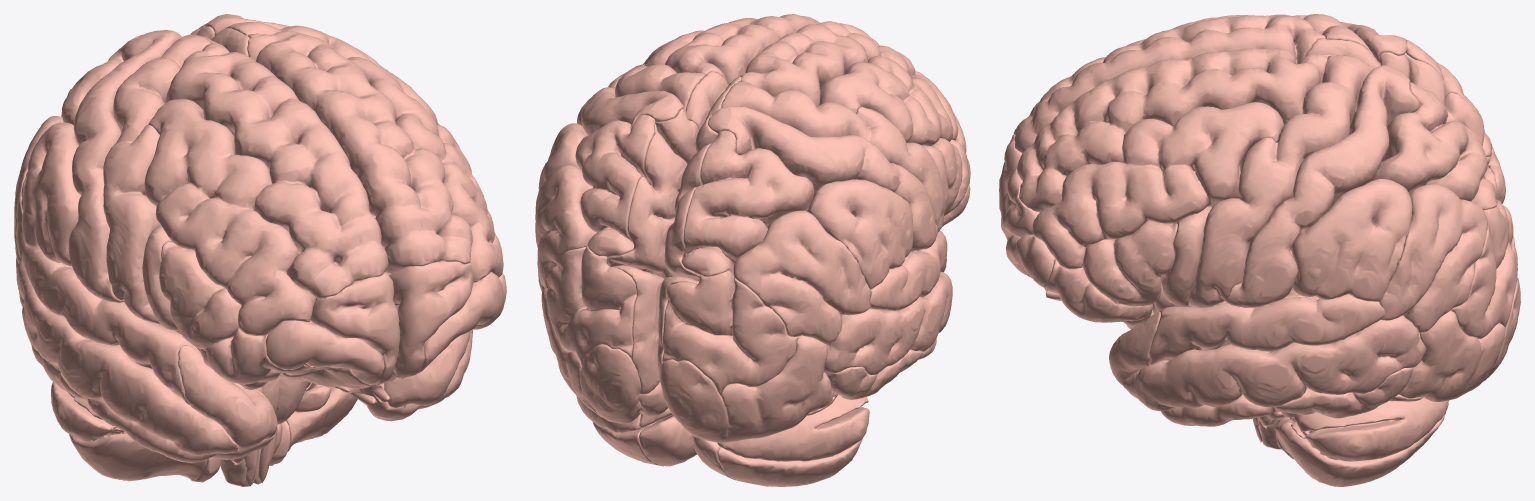
Rendered from allen-f-full-meshopt.glb.
The picture shows the model from 3 angles, left to right: view 1: azimuth 30°, elevation 25°; view 2: azimuth 150°, elevation 25°; view 3: azimuth 270°, elevation 25°; orthographic projection. The views are drawn at different scales.
Parts seen in each view (by area): view 1: Allen_superior_frontal_gyrus_L, Allen_middle_frontal_gyrus_L, Allen_superior_frontal_gyrus_R, Allen_middle_temporal_gyrus_L, Allen_primary_motor_cortex_L, Allen_postcentral_gyrus_L, Allen_superior_temporal_gyrus_L, Allen_middle_frontal_gyrus_R, Allen_supramarginal_gyrus_L, Allen_rostral_gyrus_R, Allen_lateral_hemisphere_of_cerebellum_L, Allen_inferior_frontal_gyrus_triangular_part_L (+19 smaller); view 2: Allen_angular_gyrus_L, Allen_supraparietal_lobule_L, Allen_superior_occipital_gyrus_L, Allen_postcentral_gyrus_L, Allen_lateral_hemisphere_of_cerebellum_L, Allen_superior_occipital_gyrus_R, Allen_supraparietal_lobule_R, Allen_primary_motor_cortex_L, Allen_supramarginal_gyrus_L, Allen_middle_frontal_gyrus_L, Allen_superior_frontal_gyrus_L, Allen_inferior_occipital_gyrus_L (+24 smaller); view 3: Allen_middle_frontal_gyrus_R, Allen_superior_frontal_gyrus_R, Allen_middle_temporal_gyrus_R, Allen_primary_motor_cortex_R, Allen_postcentral_gyrus_R, Allen_supramarginal_gyrus_R, Allen_angular_gyrus_R, Allen_superior_temporal_gyrus_R, Allen_lateral_hemisphere_of_cerebellum_R, Allen_superior_frontal_gyrus_L, Allen_supraparietal_lobule_R, Allen_inferior_frontal_gyrus_triangular_part_R (+16 smaller).
Boxes of the visible parts, box(x1,y1,x2,y2) form: Allen_superior_frontal_gyrus_L: box(165, 43, 388, 299); Allen_middle_frontal_gyrus_L: box(144, 98, 315, 335); Allen_superior_frontal_gyrus_R: box(247, 31, 472, 273); Allen_middle_temporal_gyrus_L: box(16, 260, 238, 455); Allen_primary_motor_cortex_L: box(103, 34, 210, 325); Allen_postcentral_gyrus_L: box(68, 30, 181, 302); Allen_superior_temporal_gyrus_L: box(21, 245, 196, 404); Allen_middle_frontal_gyrus_R: box(347, 56, 503, 282); Allen_supramarginal_gyrus_L: box(21, 122, 81, 266); Allen_rostral_gyrus_R: box(389, 260, 473, 378); Allen_lateral_hemisphere_of_cerebellum_L: box(51, 382, 207, 481); Allen_inferior_frontal_gyrus_triangular_part_L: box(159, 241, 241, 350); Allen_angular_gyrus_L: box(733, 210, 870, 344); Allen_supraparietal_lobule_L: box(681, 130, 814, 276); Allen_superior_occipital_gyrus_L: box(662, 270, 798, 395); Allen_postcentral_gyrus_L: box(707, 106, 938, 251); Allen_lateral_hemisphere_of_cerebellum_L: box(717, 394, 869, 486); Allen_superior_occipital_gyrus_R: box(546, 245, 636, 365); Allen_supraparietal_lobule_R: box(575, 114, 655, 256); Allen_primary_motor_cortex_L: box(721, 81, 944, 231); Allen_supramarginal_gyrus_L: box(807, 179, 912, 289); Allen_middle_frontal_gyrus_L: box(819, 55, 966, 152); Allen_superior_frontal_gyrus_L: box(740, 21, 923, 106); Allen_inferior_occipital_gyrus_L: box(721, 335, 836, 442); Allen_middle_frontal_gyrus_R: box(1032, 102, 1284, 269); Allen_superior_frontal_gyrus_R: box(1017, 48, 1327, 212); Allen_middle_temporal_gyrus_R: box(1122, 315, 1425, 411); Allen_primary_motor_cortex_R: box(1188, 55, 1371, 307); Allen_postcentral_gyrus_R: box(1225, 65, 1420, 307); Allen_supramarginal_gyrus_R: box(1290, 179, 1412, 301); Allen_angular_gyrus_R: box(1379, 184, 1487, 333); Allen_superior_temporal_gyrus_R: box(1149, 294, 1384, 365); Allen_lateral_hemisphere_of_cerebellum_R: box(1267, 397, 1448, 486); Allen_superior_frontal_gyrus_L: box(1013, 14, 1325, 153); Allen_supraparietal_lobule_R: box(1371, 82, 1497, 209); Allen_inferior_frontal_gyrus_triangular_part_R: box(1082, 220, 1177, 306).
Bounding box in the file's own units: 0.1364 × 0.1461 × 0.167.
